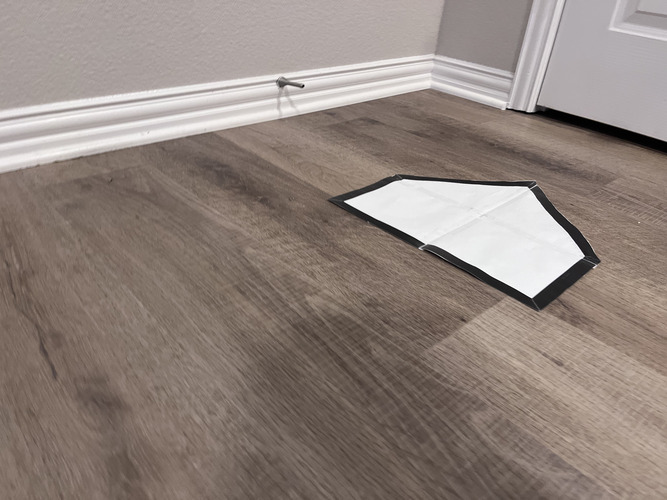homeplate: (328, 173, 600, 310)
